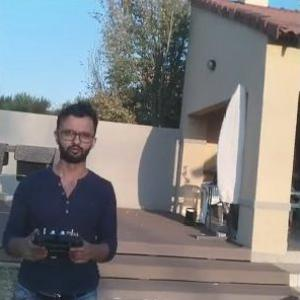follow: (0, 96, 124, 299)
